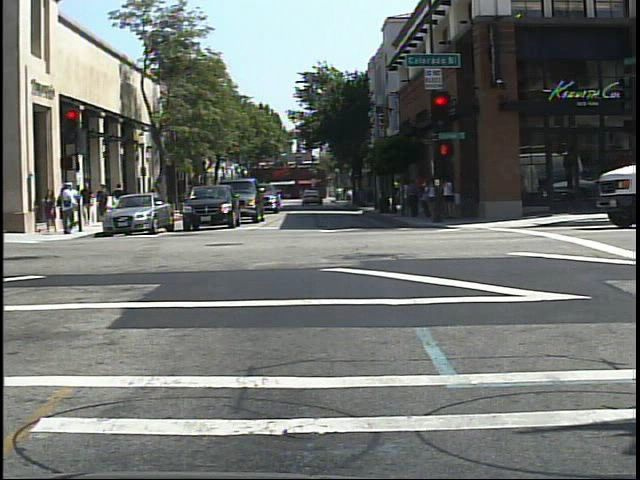person: (56, 181, 79, 240)
